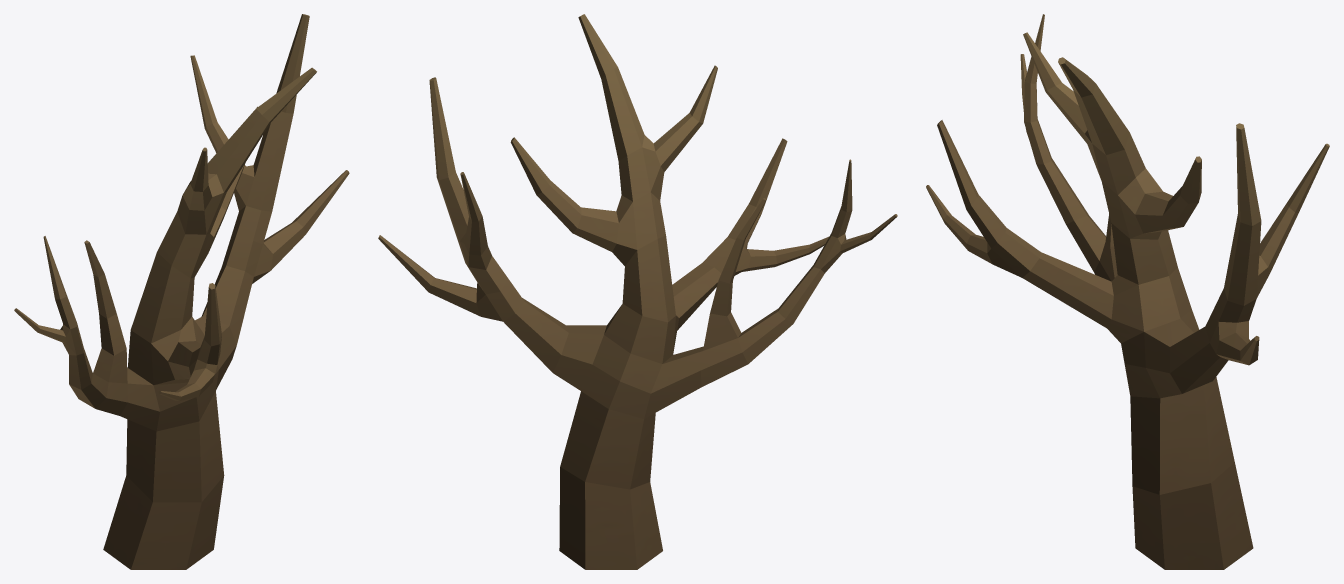
Rendered from wasteland_tree1.fbx.
3 views of the same model, side by side, from view 1: azimuth 30°, elevation 25°; view 2: azimuth 150°, elevation 25°; view 3: azimuth 270°, elevation 25° (orthographic). The views are drawn at different scales.
Parts seen in each view (by area): view 1: wasteland_tree1; view 2: wasteland_tree1; view 3: wasteland_tree1.
Boxes of the visible parts, x1,y1,x2,y2 form: wasteland_tree1: (14, 14, 349, 569); wasteland_tree1: (378, 14, 897, 569); wasteland_tree1: (926, 14, 1329, 569).
Bounding box in the file's own units: 6.21 × 6.75 × 4.58.
